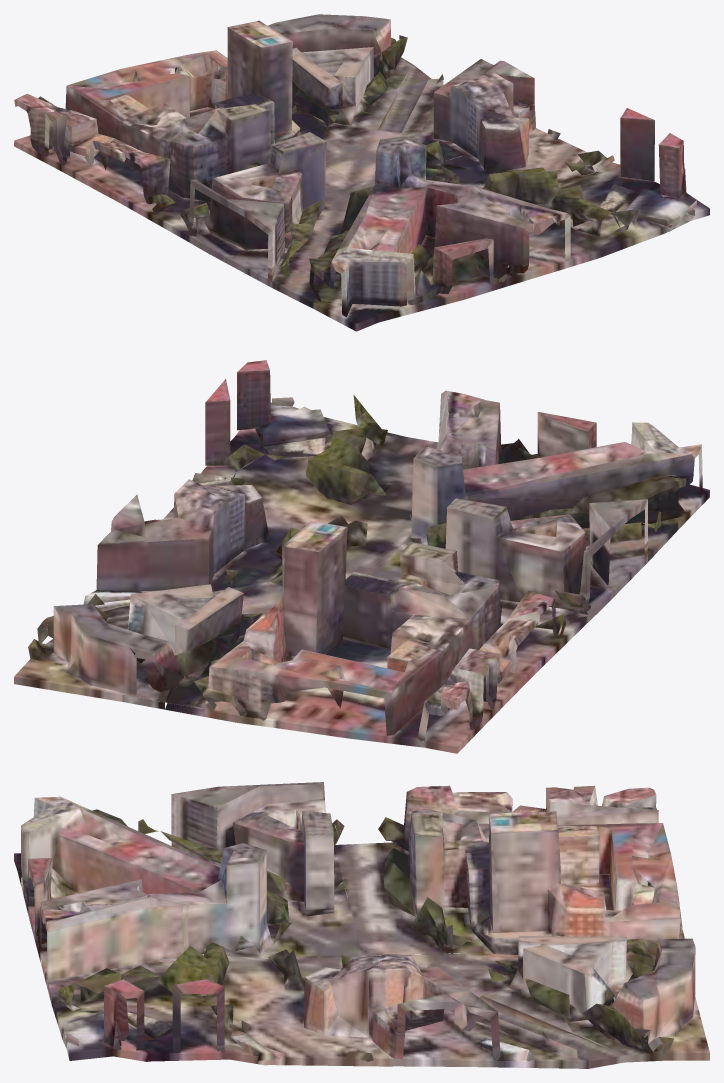
The picture shows the model from 3 angles, top to bottom: view 1: azimuth 30°, elevation 25°; view 2: azimuth 150°, elevation 25°; view 3: azimuth 270°, elevation 25°; orthographic projection. The views are drawn at different scales.
Visible parts, largest first — view 1: Mesh_0; view 2: Mesh_0; view 3: Mesh_0.
Boxes of the visible parts, x1=… form: Mesh_0: x1=14, y1=14, x2=709, y2=331; Mesh_0: x1=14, y1=360, x2=709, y2=753; Mesh_0: x1=14, y1=782, x2=709, y2=1068.
Bounding box in the file's own units: 266 × 71.95 × 329.
2 materials, 2 textured.
